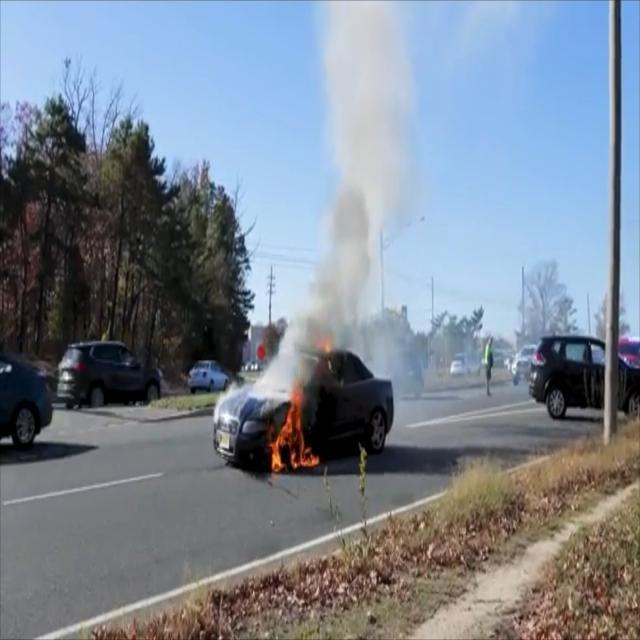fire: (264, 380, 325, 475), (314, 324, 339, 367)
